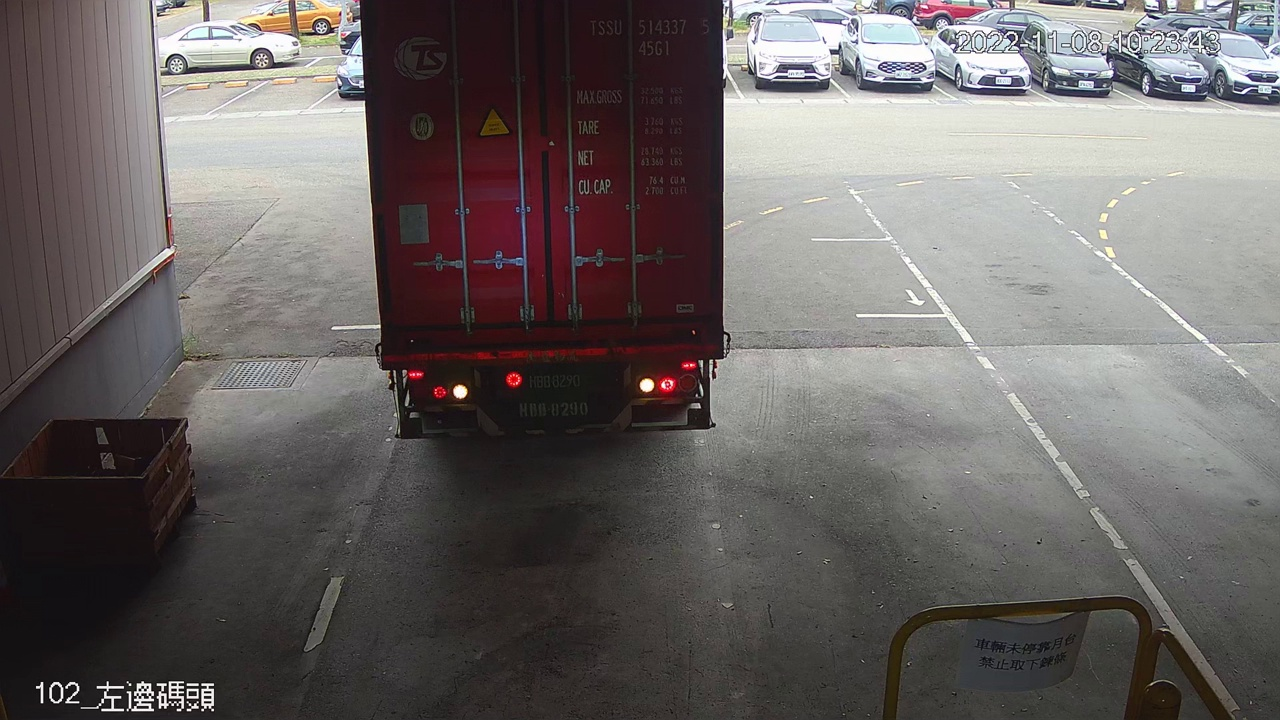container: (584, 13, 715, 61)
